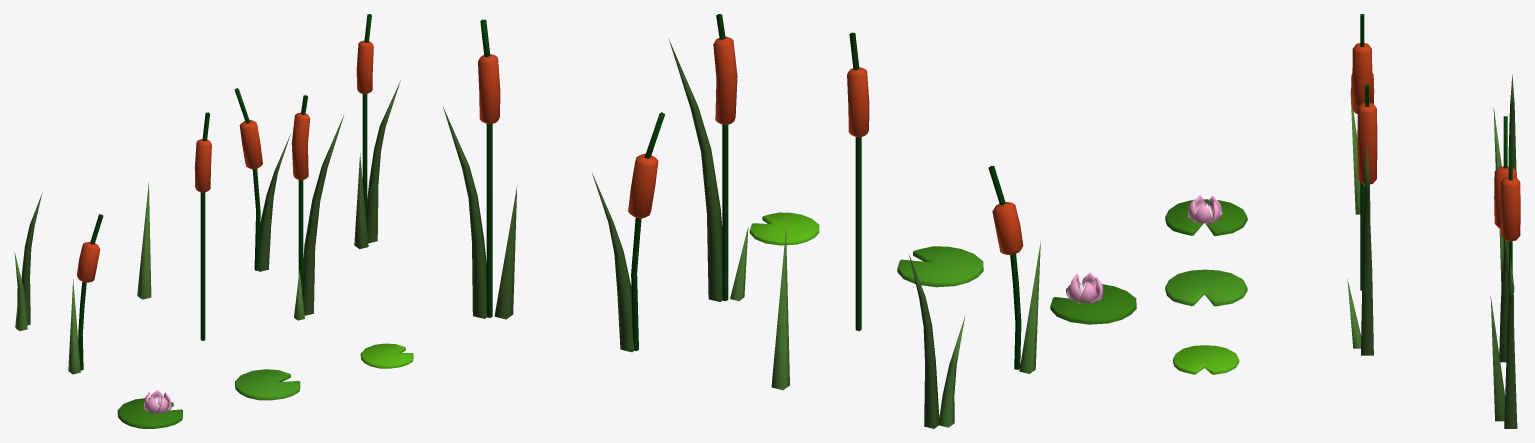
3 renders of one model, left to right at view 1: azimuth 30°, elevation 25°; view 2: azimuth 150°, elevation 25°; view 3: azimuth 270°, elevation 25°, orthographic. The views are drawn at different scales.
Visible parts, largest first — view 1: Grass_Cattail.003, Grass_Cattail.002, Grass_Cattail.001, Grass_Cattail.005, Grass_Cattail.004, Water Lily.001, Water Lily.002, Grass_Cattail.007, Water Lily.003, Grass_Cattail.006; view 2: Grass_Cattail.003, Grass_Cattail.002, Grass_Cattail.001, Grass_Cattail.005, Grass_Cattail.004, Water Lily.001, Grass_Cattail.007, Water Lily.002, Water Lily.003, Grass_Cattail.006; view 3: Grass_Cattail.003, Grass_Cattail.002, Water Lily.001, Water Lily.002, Grass_Cattail.004, Grass_Cattail.001, Water Lily.003, Grass_Cattail.005, Grass_Cattail.007.
Boxes of the visible parts, left/top/right/bottom form: Grass_Cattail.003: left=291, top=95, right=343, bottom=320; Grass_Cattail.002: left=354, top=14, right=400, bottom=249; Grass_Cattail.001: left=234, top=88, right=290, bottom=271; Grass_Cattail.005: left=68, top=214, right=103, bottom=374; Grass_Cattail.004: left=194, top=112, right=211, bottom=340; Water Lily.001: left=117, top=389, right=182, bottom=428; Water Lily.002: left=235, top=369, right=300, bottom=400; Grass_Cattail.007: left=14, top=193, right=42, bottom=330; Water Lily.003: left=360, top=343, right=413, bottom=368; Grass_Cattail.006: left=137, top=182, right=151, bottom=299; Grass_Cattail.003: left=668, top=14, right=748, bottom=301; Grass_Cattail.002: left=443, top=19, right=517, bottom=319; Grass_Cattail.001: left=592, top=112, right=664, bottom=352; Grass_Cattail.005: left=988, top=165, right=1040, bottom=373; Grass_Cattail.004: left=847, top=32, right=869, bottom=331; Water Lily.001: left=1050, top=272, right=1136, bottom=324; Grass_Cattail.007: left=909, top=254, right=965, bottom=428; Water Lily.002: left=897, top=246, right=983, bottom=287; Water Lily.003: left=749, top=212, right=819, bottom=245; Grass_Cattail.006: left=771, top=229, right=789, bottom=390; Grass_Cattail.003: left=1347, top=84, right=1377, bottom=355; Grass_Cattail.002: left=1490, top=147, right=1520, bottom=428; Water Lily.001: left=1165, top=194, right=1247, bottom=235; Water Lily.002: left=1165, top=269, right=1247, bottom=306; Grass_Cattail.004: left=1352, top=14, right=1372, bottom=290; Grass_Cattail.001: left=1494, top=116, right=1516, bottom=362; Water Lily.003: left=1173, top=345, right=1239, bottom=374; Grass_Cattail.005: left=1350, top=73, right=1374, bottom=214; Grass_Cattail.007: left=1493, top=74, right=1516, bottom=170.
Size of the model in its own units: 2.9 by 1.56 by 1.81.
Materials: 1 (1 with a texture image).
